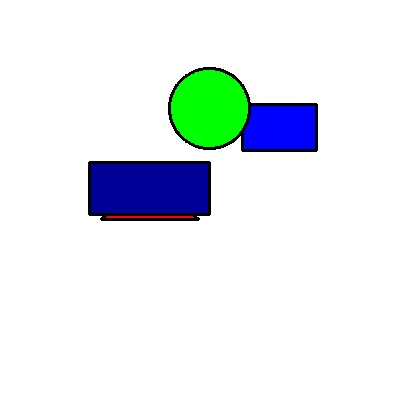circle: (161, 68, 258, 149)
rectangle: (89, 162, 209, 214), (242, 104, 316, 150)
triangle: (101, 177, 198, 219)
